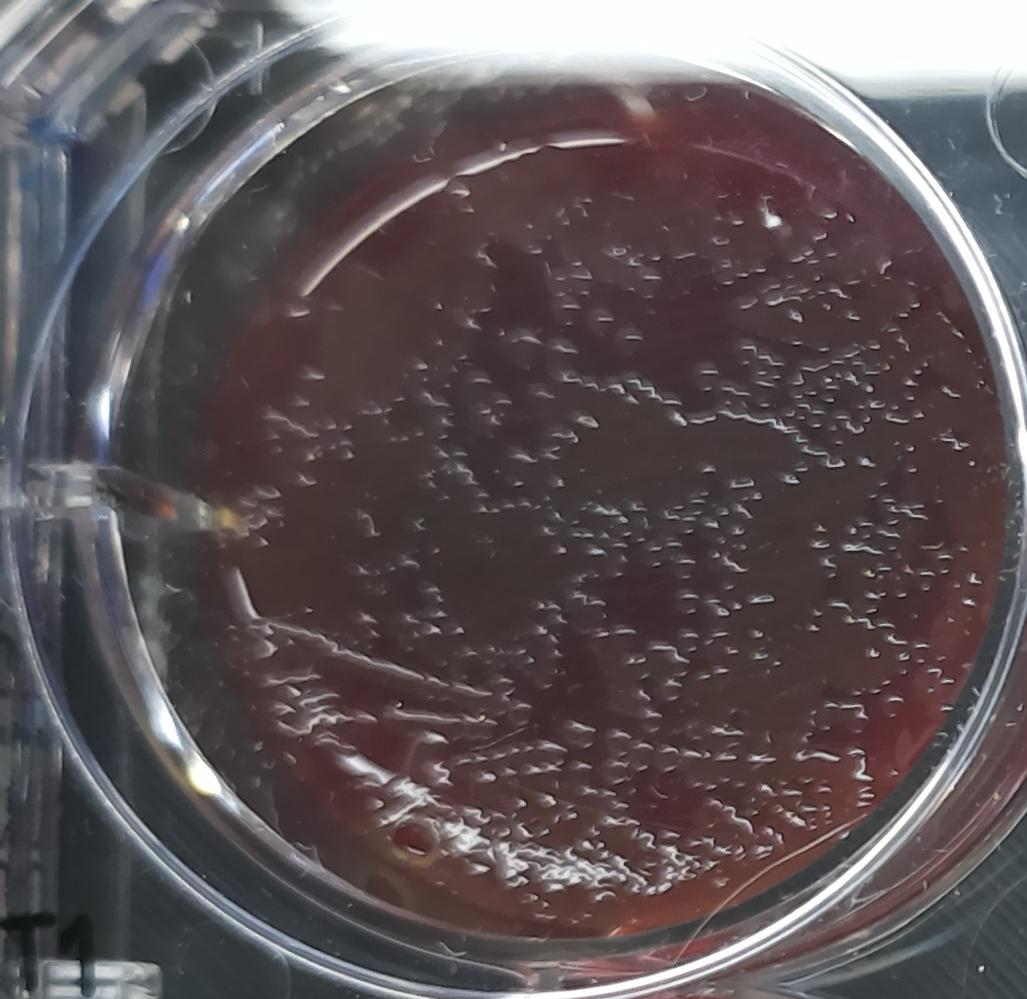vangil: (778, 334, 894, 442), (640, 531, 695, 575), (817, 691, 871, 734), (671, 579, 709, 619), (561, 711, 597, 750)
